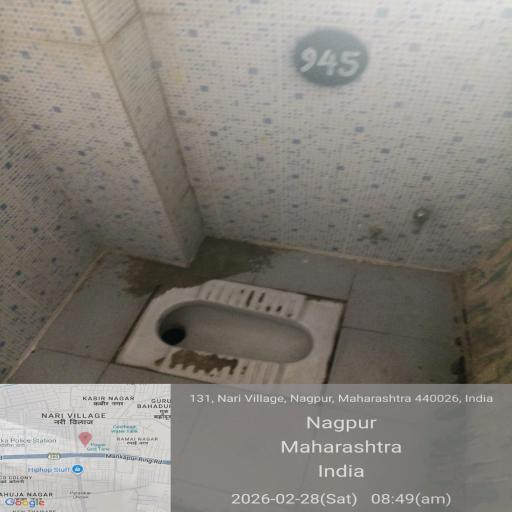partial_dirty_floor: (67, 130, 512, 500)
partial_dirty_indian: (115, 266, 397, 401)
